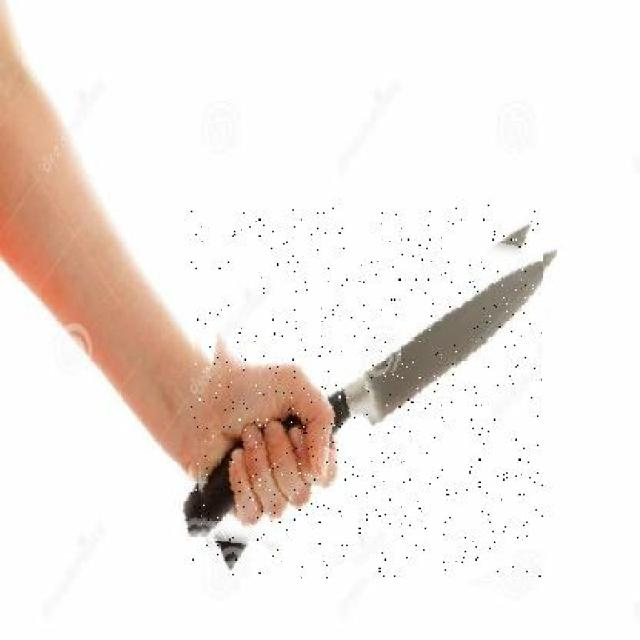knife: (191, 204, 543, 578)
